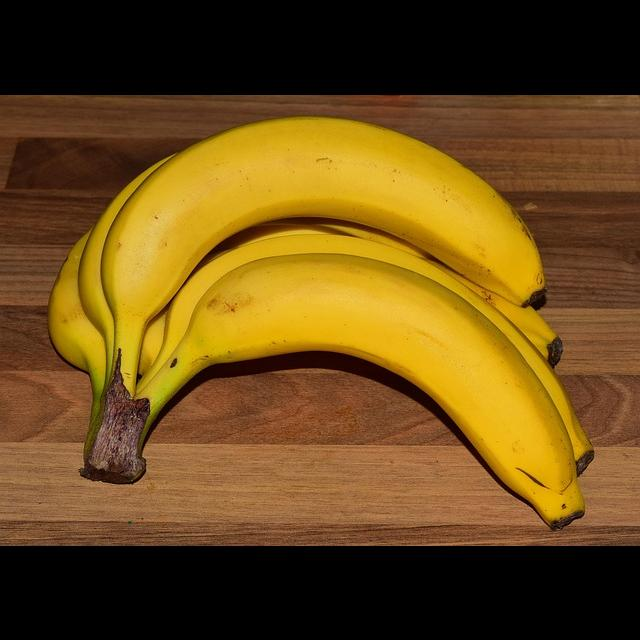apple: (35, 130, 558, 394), (93, 111, 574, 374), (131, 224, 607, 471), (159, 254, 592, 515), (130, 204, 571, 380)
